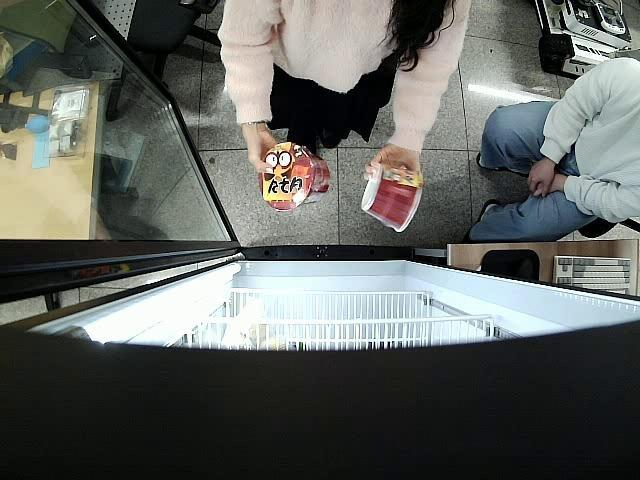05_nuguri_L: (256, 142, 330, 214), (358, 162, 424, 236)
